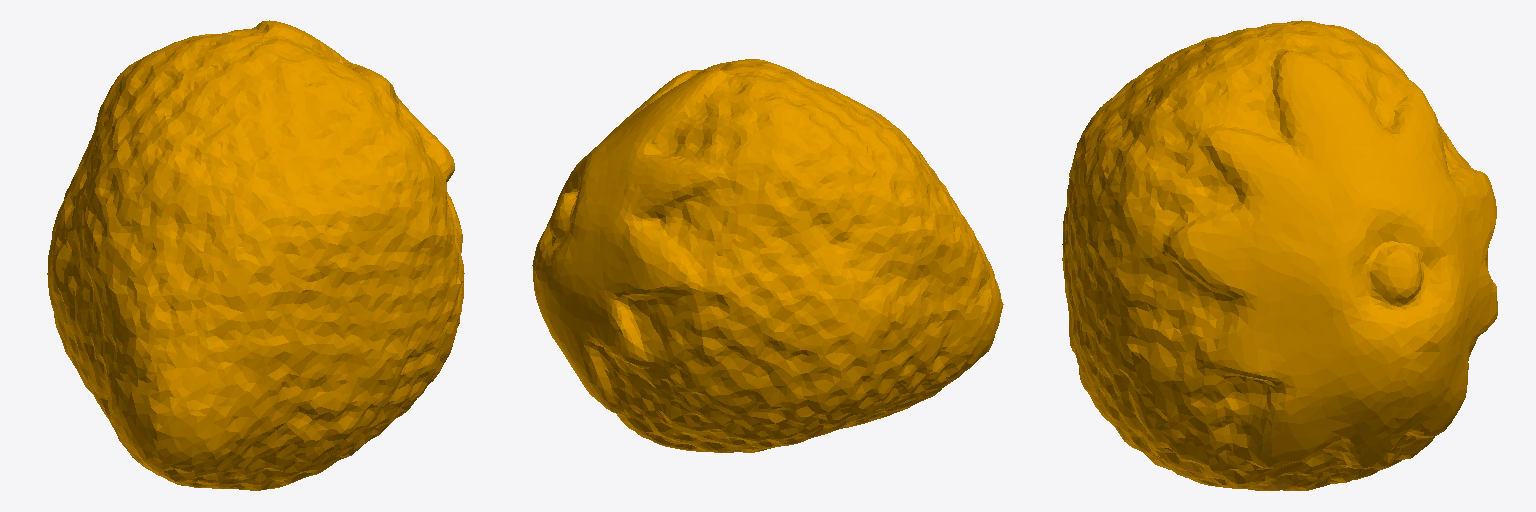
robot.urdf — root:
<robot name="root">
  <link name="link_original">
    <visual>
      <origin xyz="0 0 0" rpy="0 0 0"/>
      <geometry>
        <mesh filename="textured.obj" scale="1.0000E+00 1.0000E+00 1.0000E+00"/>
      </geometry>
    </visual>
    <inertial>
      <origin xyz="0 0 0" rpy="0 0 0"/>
      <mass value="4.8323E-02"/>
      <inertia ixx="9.84E-06" ixy="-9.35E-07" ixz="-1.39E-07" iyy="1.04E-05" iyz="-2.64E-07" izz="1.00E-05"/>
    </inertial>
    <collision>
      <origin xyz="0 0 0" rpy="0 0 0"/>
      <geometry>
        <mesh filename="coacd_allinone.obj" scale="1.0000E+00 1.0000E+00 1.0000E+00"/>
      </geometry>
    </collision>
  </link>
</robot>

--- Facts derived from the render (not from the file) ---
The picture shows the robot from 3 angles, left to right: view 1: azimuth 30°, elevation 25°; view 2: azimuth 150°, elevation 25°; view 3: azimuth 270°, elevation 25°; orthographic projection.
Robot: root — 1 links, 0 joints (none); root link link_original; default pose: every joint at zero.
Links seen in each view (by area): view 1: link_original; view 2: link_original; view 3: link_original.
Boxes of the visible links, x1,y1,x2,y2 form: link_original: (47,20,464,490); link_original: (532,59,1003,452); link_original: (1062,20,1497,490).
Size in the robot's own frame: 0.0467 by 0.0428 by 0.0463 metres.
1 mesh visuals loaded from 1 distinct referenced files (1 OBJ).
